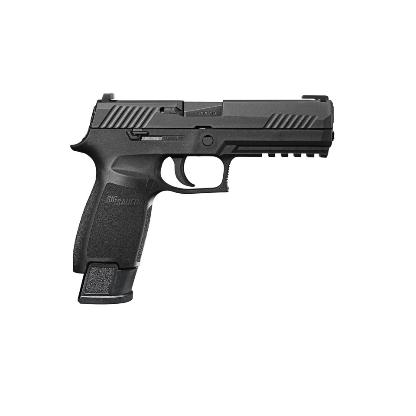gun: (64, 93, 335, 309)
